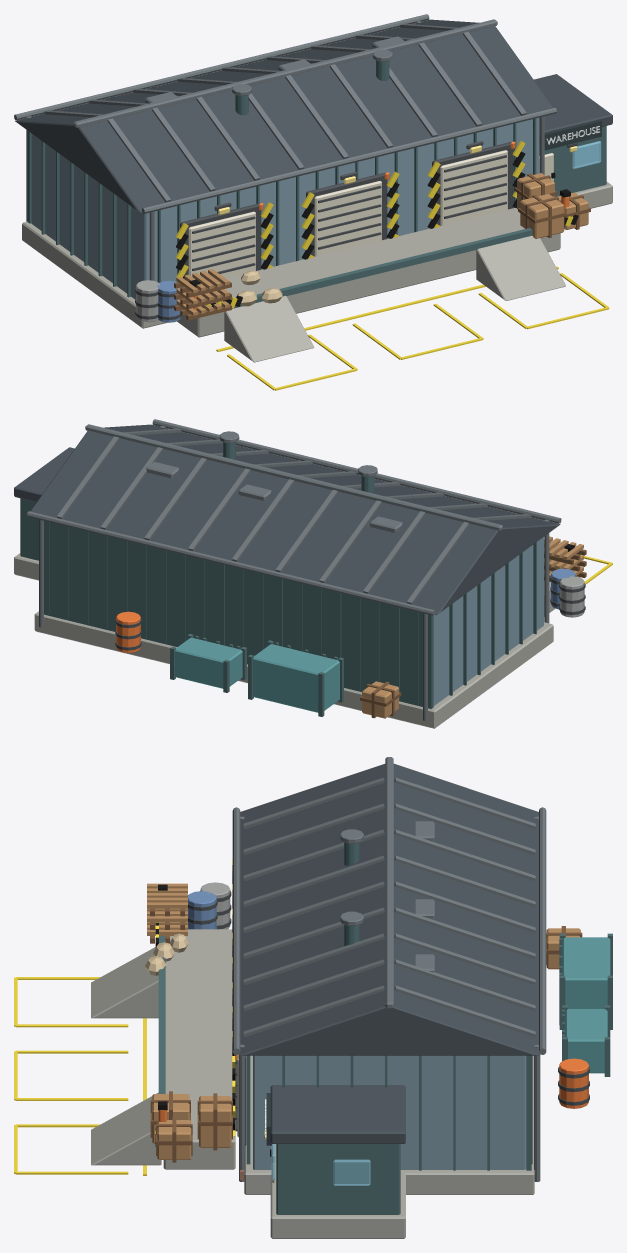
The model's file is warehouse.fbx.
3 renders of one model, top to bottom at view 1: azimuth 30°, elevation 25°; view 2: azimuth 150°, elevation 25°; view 3: azimuth 270°, elevation 25°, orthographic. The views are drawn at different scales.
Visible parts, largest first — view 1: Roof, MainBuilding, DockPlatform, DockRamps_RightRamp, DockRamps_LeftRamp, LoadingDoors_Door_2, LoadingDoors_Door_3, LoadingDoors_Door_1, Roof_Ridge, MainBuilding_ConcretePlinth, RoofDetails_FrontGutter, RoofDetails_BackGutter (+23 smaller); view 2: Roof, MainBuilding_DarkBackStrip, MainBuilding, MainBuilding_ConcretePlinth, Props_Containers_Container_A_Body, Roof_Ridge, RoofDetails_BackGutter, Props_Containers_Container_B_Body, RoofDetails_FrontGutter, OfficeBlock_FlatRoof, OfficeBlock, Props_Crates_Crate_D_Body (+15 smaller); view 3: Roof, MainBuilding, DockPlatform, OfficeBlock, OfficeBlock_FlatRoof, MainBuilding_ConcretePlinth, OfficeBlock_ConcreteBase, DockRamps_LeftRamp, DockRamps_RightRamp, Props_Containers_Container_A_Body, Props_Containers_Container_B_Body, Roof_Ridge (+31 smaller).
Boxes of the visible parts, x1=… form: Roof: x1=15, y1=19, x2=553, y2=213; MainBuilding: x1=31, y1=117, x2=539, y2=299; DockPlatform: x1=177, y1=208, x2=560, y2=337; DockRamps_RightRamp: x1=476, y1=235, x2=565, y2=300; DockRamps_LeftRamp: x1=224, y1=296, x2=314, y2=362; LoadingDoors_Door_2: x1=314, y1=181, x2=381, y2=256; LoadingDoors_Door_3: x1=440, y1=150, x2=507, y2=225; LoadingDoors_Door_1: x1=188, y1=211, x2=255, y2=278; Roof_Ridge: x1=73, y1=19, x2=497, y2=127; MainBuilding_ConcretePlinth: x1=22, y1=221, x2=166, y2=328; RoofDetails_FrontGutter: x1=141, y1=107, x2=556, y2=213; RoofDetails_BackGutter: x1=14, y1=14, x2=429, y2=120; Roof: x1=30, y1=424, x2=560, y2=614; MainBuilding_DarkBackStrip: x1=44, y1=521, x2=433, y2=708; MainBuilding: x1=433, y1=537, x2=543, y2=705; MainBuilding_ConcretePlinth: x1=34, y1=611, x2=553, y2=728; Props_Containers_Container_A_Body: x1=253, y1=644, x2=339, y2=712; Roof_Ridge: x1=85, y1=424, x2=502, y2=531; RoofDetails_BackGutter: x1=27, y1=511, x2=435, y2=615; Props_Containers_Container_B_Body: x1=175, y1=637, x2=242, y2=688; RoofDetails_FrontGutter: x1=152, y1=419, x2=561, y2=523; OfficeBlock_FlatRoof: x1=14, y1=447, x2=74, y2=501; OfficeBlock: x1=20, y1=498, x2=38, y2=560; Props_Crates_Crate_D_Body: x1=362, y1=681, x2=398, y2=718; Roof: x1=239, y1=763, x2=540, y2=1055; MainBuilding: x1=253, y1=1055, x2=526, y2=1169; DockPlatform: x1=163, y1=929, x2=235, y2=1169; OfficeBlock: x1=276, y1=1144, x2=400, y2=1214; OfficeBlock_FlatRoof: x1=270, y1=1085, x2=405, y2=1143; MainBuilding_ConcretePlinth: x1=244, y1=1055, x2=534, y2=1194; OfficeBlock_ConcreteBase: x1=270, y1=1170, x2=405, y2=1238; DockRamps_LeftRamp: x1=91, y1=947, x2=158, y2=1018; DockRamps_RightRamp: x1=91, y1=1092, x2=161, y2=1165; Props_Containers_Container_A_Body: x1=562, y1=937, x2=610, y2=1008; Props_Containers_Container_B_Body: x1=565, y1=1009, x2=607, y2=1073; Roof_Ridge: x1=385, y1=757, x2=393, y2=1008.
Bounding box in the file's own units: 1013 × 336 × 877.
